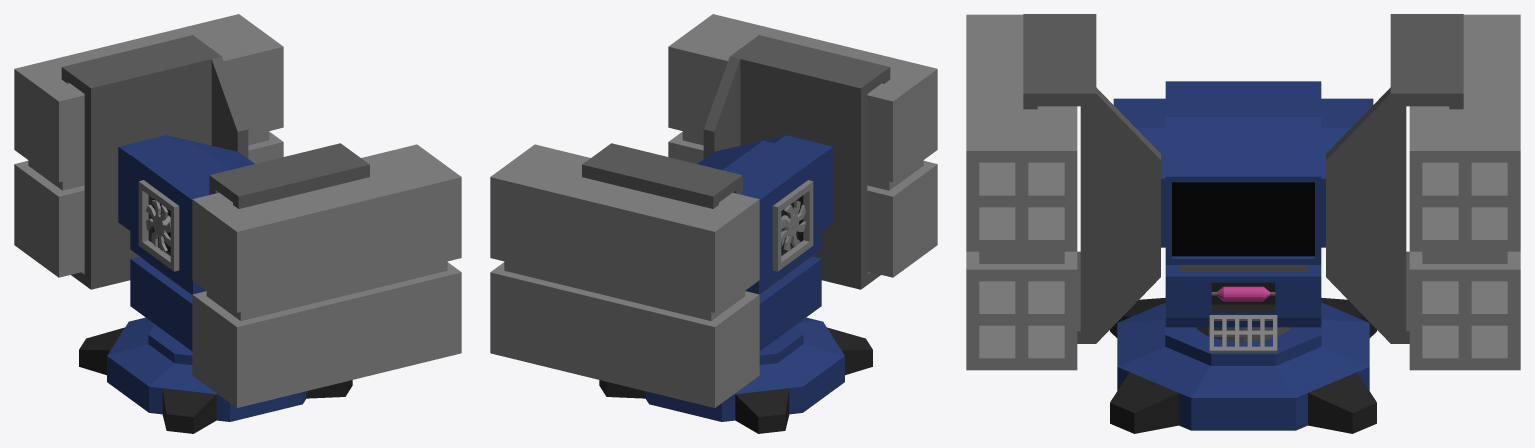
The model's file is LAD_V2.fbx.
3 renders of one model, left to right at view 1: azimuth 30°, elevation 25°; view 2: azimuth 150°, elevation 25°; view 3: azimuth 270°, elevation 25°, orthographic. The views are drawn at different scales.
Visible parts, largest first — view 1: Model_RA, Model_LA, Model_BD, Model_B, Model_WP1; view 2: Model_LA, Model_RA, Model_BD, Model_B, Model_WP1; view 3: Model_RA, Model_LA, Model_BD, Model_B, Model_WP2.
Boxes of the visible parts, x1=… form: Model_RA: x1=192, y1=143, x2=461, y2=407; Model_LA: x1=14, y1=14, x2=283, y2=289; Model_BD: x1=118, y1=135, x2=254, y2=350; Model_B: x1=79, y1=317, x2=352, y2=433; Model_WP1: x1=145, y1=200, x2=170, y2=251; Model_LA: x1=490, y1=143, x2=759, y2=407; Model_RA: x1=668, y1=14, x2=937, y2=289; Model_BD: x1=697, y1=135, x2=833, y2=350; Model_B: x1=599, y1=317, x2=872, y2=433; Model_WP1: x1=781, y1=200, x2=806, y2=251; Model_RA: x1=966, y1=14, x2=1160, y2=370; Model_LA: x1=1326, y1=14, x2=1520, y2=370; Model_BD: x1=1113, y1=81, x2=1373, y2=327; Model_B: x1=1110, y1=297, x2=1376, y2=433; Model_WP2: x1=1209, y1=315, x2=1277, y2=352.
Bounding box in the file's own units: 504 × 550 × 854.
